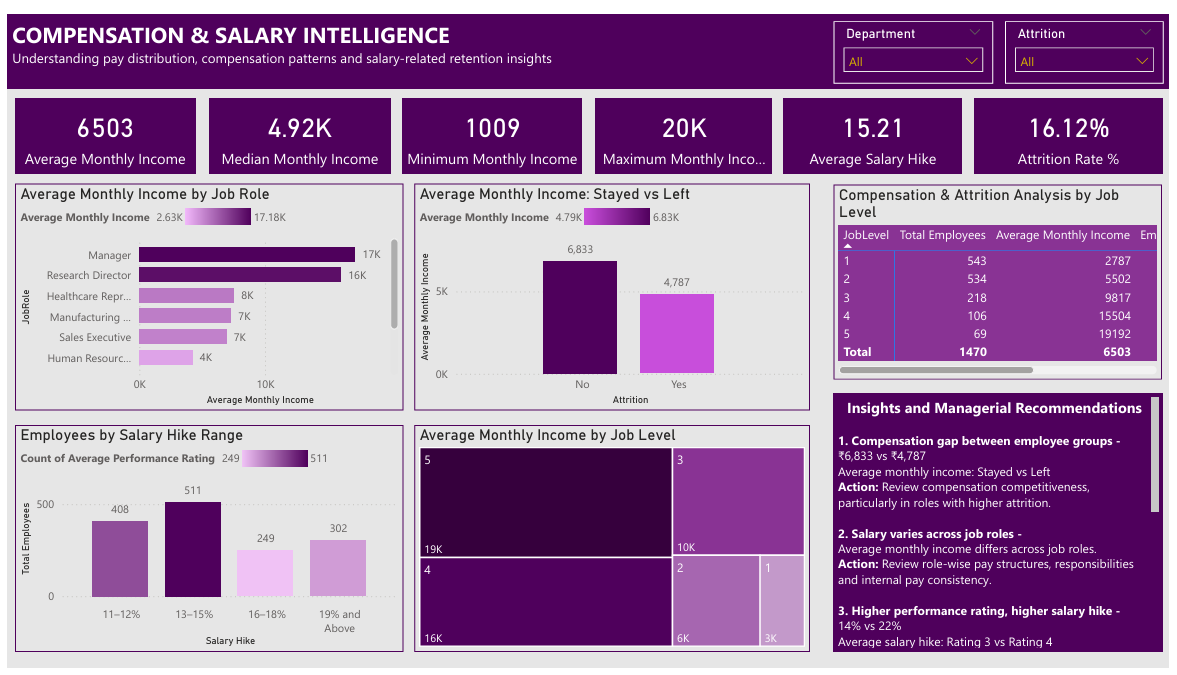

The page's visual inventory and layout, read from the dashboard file:
{"tool":"powerbi","page":{"name":"03– Compensation & Salary Intelligence.","canvas":[1280,720],"ordinal":2},"visuals":[{"type":"card","fields":{"Values":["HR_Analytics_Cleaned.Average Monthly Income"]},"box":[8.5,92.3,198.5,82.3],"z":0},{"type":"card","fields":{"Values":["HR_Analytics_Cleaned.Maximum Monthly Income"]},"box":[647.7,92.3,195.4,82.3],"z":1000},{"type":"card","fields":{"Values":["HR_Analytics_Cleaned.Median Monthly Income"]},"box":[221.5,92.3,200,82.3],"z":2000},{"type":"card","fields":{"Values":["HR_Analytics_Cleaned.Minimum Monthly Income"]},"box":[435.4,92.3,197.7,82.3],"z":3000},{"type":"card","fields":{"Values":["HR_Analytics_Cleaned.Average Salary Hike"]},"box":[855.4,92.3,196.2,82.3],"z":4000},{"type":"card","fields":{"Values":["HR_Analytics_Cleaned.Attrition Rate %"]},"box":[1065,92,208,83],"z":5000},{"type":"textbox","box":[0,0,1280,82],"z":6000},{"type":"clusteredBarChart","title":"Average Monthly Income by Job Role","fields":{"Category":["HR_Analytics_Cleaned.JobRole"],"Y":["HR_Analytics_Cleaned.Average Monthly Income"]},"box":[8,186,428,250],"z":7000},{"type":"columnChart","title":"Employees by Salary Hike Range","fields":{"Category":["HR_Analytics_Cleaned.Salary_Hike_Group"],"Y":["HR_Analytics_Cleaned.Total Employees"]},"box":[8,452,428,250],"z":8000},{"type":"slicer","fields":{"Values":["HR_Analytics_Cleaned.Attrition"]},"box":[1098.6,7.1,175.7,68.6],"z":9000},{"type":"slicer","fields":{"Values":["HR_Analytics_Cleaned.Department"]},"box":[910,7.1,175.7,68.6],"z":10000},{"type":"clusteredColumnChart","title":"Average Monthly Income: Stayed vs Left","fields":{"Category":["HR_Analytics_Cleaned.Attrition"],"Y":["HR_Analytics_Cleaned.Average Monthly Income"]},"box":[448,186,436,250],"z":11000},{"type":"textbox","box":[910,416.7,363.3,285],"z":12000},{"type":"treemap","title":"Average Monthly Income by Job Level","fields":{"Group":["HR_Analytics_Cleaned.JobLevel"],"Values":["HR_Analytics_Cleaned.Average Monthly Income"]},"box":[448,452,436,250],"z":13000},{"type":"pivotTable","title":"Compensation & Attrition Analysis by Job Level","fields":{"Rows":["HR_Analytics_Cleaned.JobLevel"],"Values":["HR_Analytics_Cleaned.Total Employees","HR_Analytics_Cleaned.Average Monthly Income","HR_Analytics_Cleaned.Employees Left","HR_Analytics_Cleaned.Attrition Rate %"]},"box":[910,186.7,361.7,215],"z":14000}]}

Visuals, with their boxes in screenshot pixels (x1, y1, x2, y2), scaled from the page's 1280x720 canvas onto the 1177x675 screenshot:
card - HR_Analytics_Cleaned.Average Monthly Income: x1=8 y1=87 x2=190 y2=164
card - HR_Analytics_Cleaned.Maximum Monthly Income: x1=596 y1=87 x2=775 y2=164
card - HR_Analytics_Cleaned.Median Monthly Income: x1=204 y1=87 x2=388 y2=164
card - HR_Analytics_Cleaned.Minimum Monthly Income: x1=400 y1=87 x2=582 y2=164
card - HR_Analytics_Cleaned.Average Salary Hike: x1=787 y1=87 x2=967 y2=164
card - HR_Analytics_Cleaned.Attrition Rate %: x1=979 y1=86 x2=1171 y2=164
textbox: x1=0 y1=0 x2=1176 y2=77
"Average Monthly Income by Job Role" clusteredBarChart: x1=7 y1=174 x2=401 y2=409
"Employees by Salary Hike Range" columnChart: x1=7 y1=424 x2=401 y2=658
slicer - HR_Analytics_Cleaned.Attrition: x1=1010 y1=7 x2=1172 y2=71
slicer - HR_Analytics_Cleaned.Department: x1=837 y1=7 x2=998 y2=71
"Average Monthly Income: Stayed vs Left" clusteredColumnChart: x1=412 y1=174 x2=813 y2=409
textbox: x1=837 y1=391 x2=1171 y2=658
"Average Monthly Income by Job Level" treemap: x1=412 y1=424 x2=813 y2=658
"Compensation & Attrition Analysis by Job Level" pivotTable: x1=837 y1=175 x2=1169 y2=377
